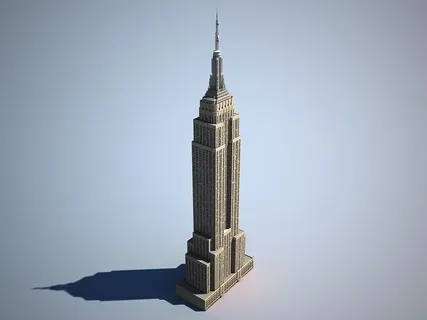high_rise_building: (175, 4, 256, 311)
